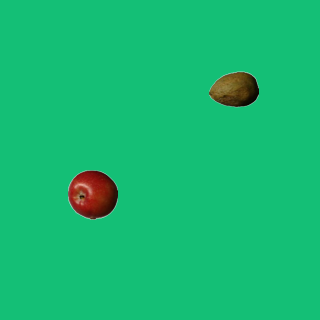Apple Braeburn: (67, 169, 117, 219)
Papaya: (208, 64, 258, 114)
